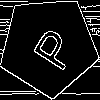P: (24, 21, 79, 73)
